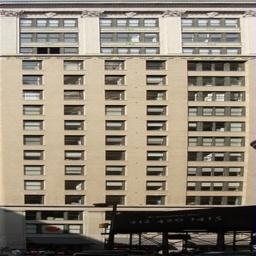building: (0, 0, 256, 241)
